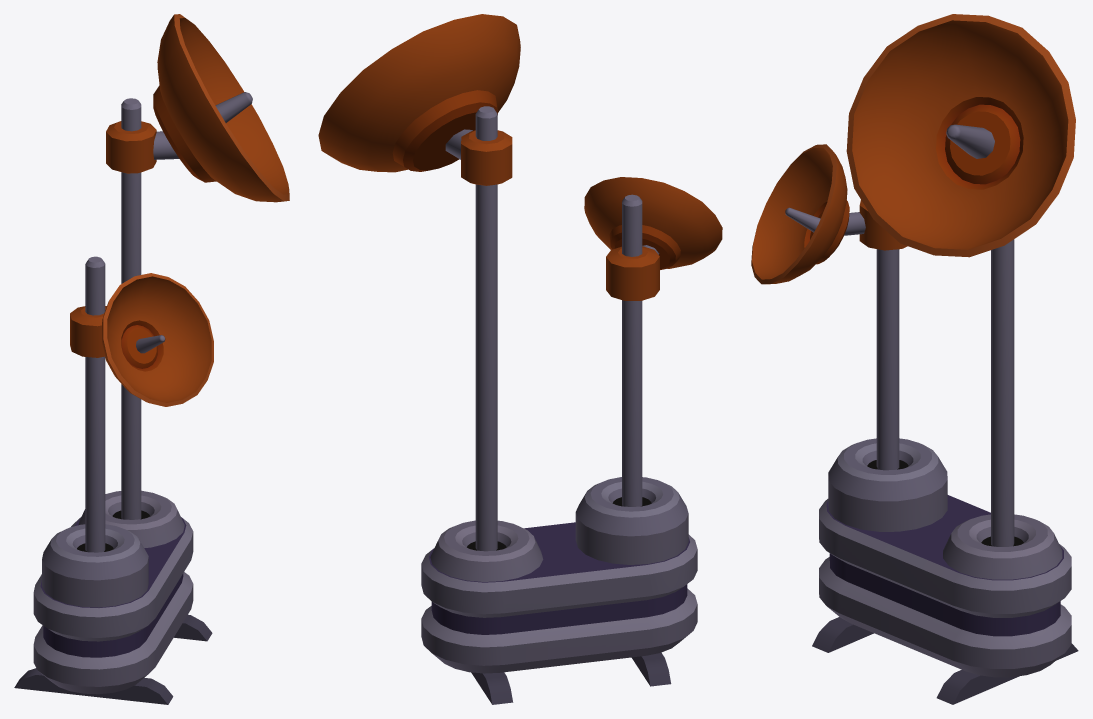
Rendered from Ufo_Stand_03.fbx.
3 renders of one model, left to right at view 1: azimuth 30°, elevation 25°; view 2: azimuth 150°, elevation 25°; view 3: azimuth 270°, elevation 25°, orthographic. The views are drawn at different scales.
Visible parts, largest first — view 1: Ufo_Stand_03; view 2: Ufo_Stand_03; view 3: Ufo_Stand_03.
Boxes of the visible parts, left/top/right/bottom form: Ufo_Stand_03: left=14, top=14, right=289, bottom=704; Ufo_Stand_03: left=318, top=14, right=722, bottom=704; Ufo_Stand_03: left=751, top=14, right=1078, bottom=704.
Bounding box in the file's own units: 0.6513 × 1.3 × 0.5689.
